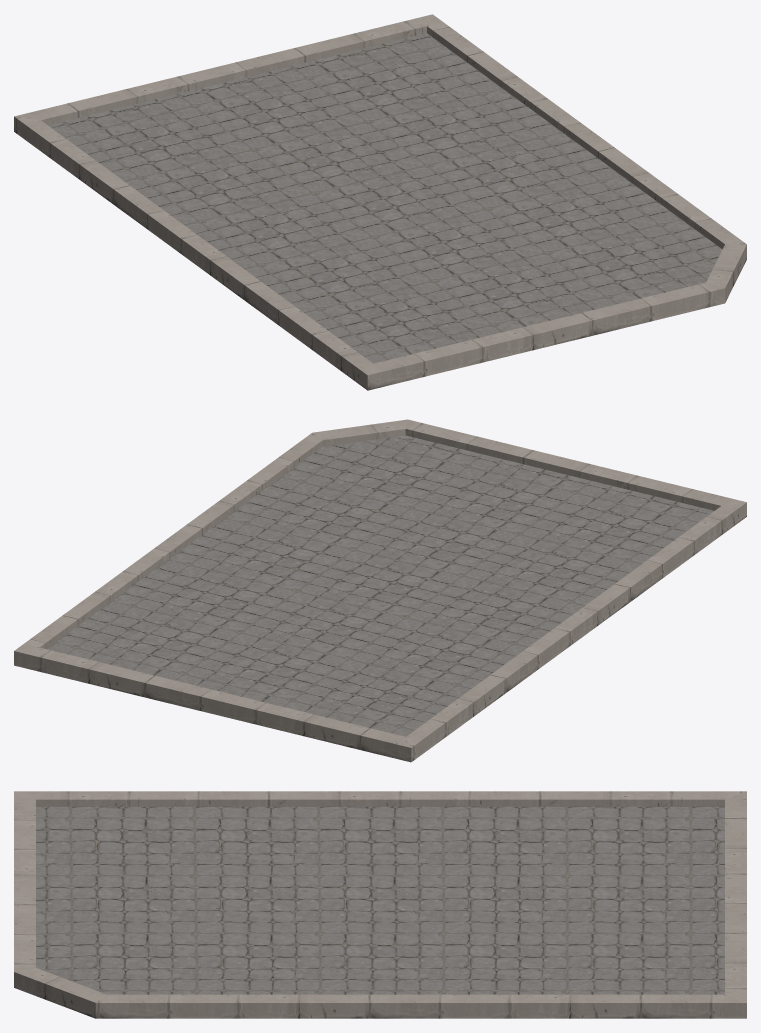
The model's file is TownGroundTile_V.fbx.
3 views of the same model, one above another, from view 1: azimuth 30°, elevation 25°; view 2: azimuth 150°, elevation 25°; view 3: azimuth 270°, elevation 25° (orthographic). The views are drawn at different scales.
Parts seen in each view (by area): view 1: TownGroundTile_V; view 2: TownGroundTile_V; view 3: TownGroundTile_V.
Part boxes in pixels (x1,y1,x2,y2): TownGroundTile_V: (14,14,746,390); TownGroundTile_V: (14,419,746,762); TownGroundTile_V: (14,791,746,1018).
Bounding box in the file's own units: 920 × 32.13 × 1346.
2 materials, 2 textured.
